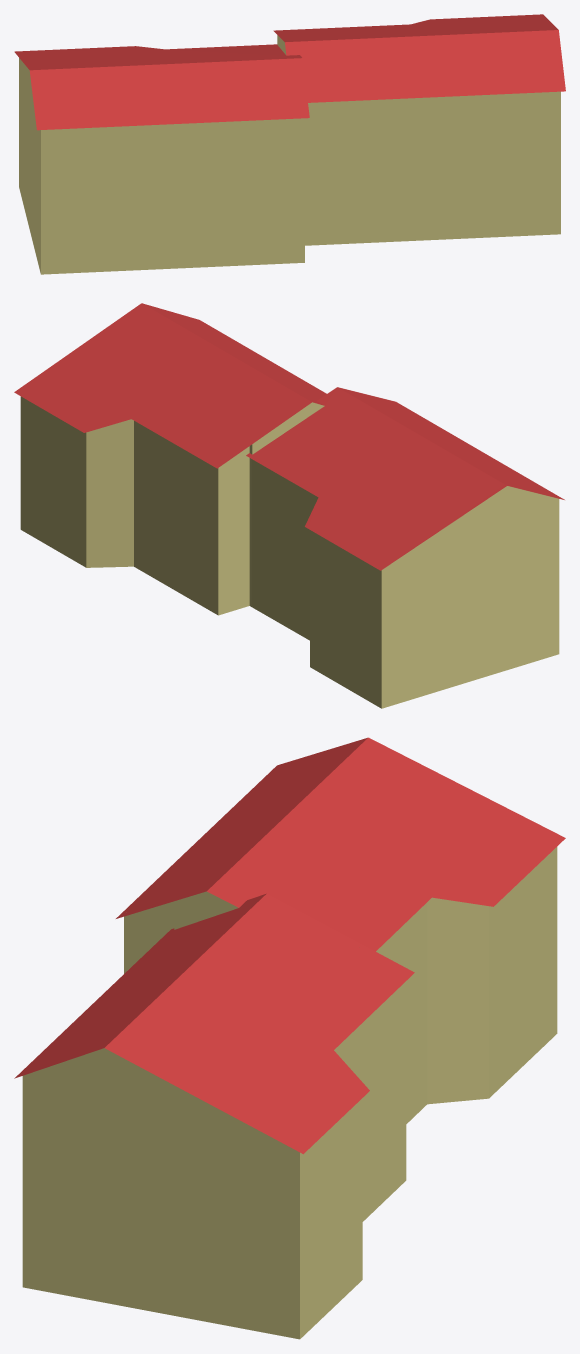
3 renders of one model, top to bottom at view 1: azimuth 30°, elevation 25°; view 2: azimuth 150°, elevation 25°; view 3: azimuth 270°, elevation 25°, orthographic. The views are drawn at different scales.
Size of the model in its own units: 32.7 by 20.9 by 10.77.
